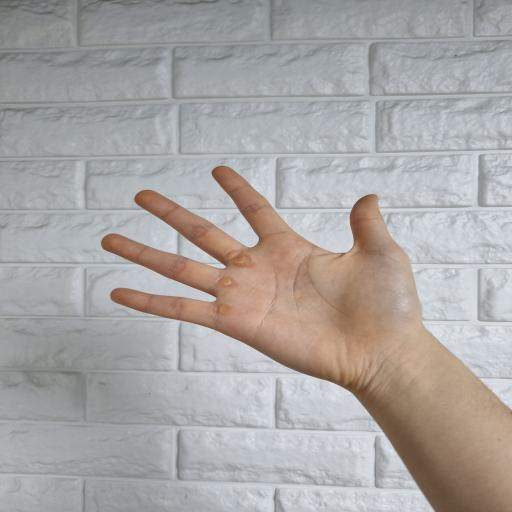Paper: (101, 166, 429, 387)
